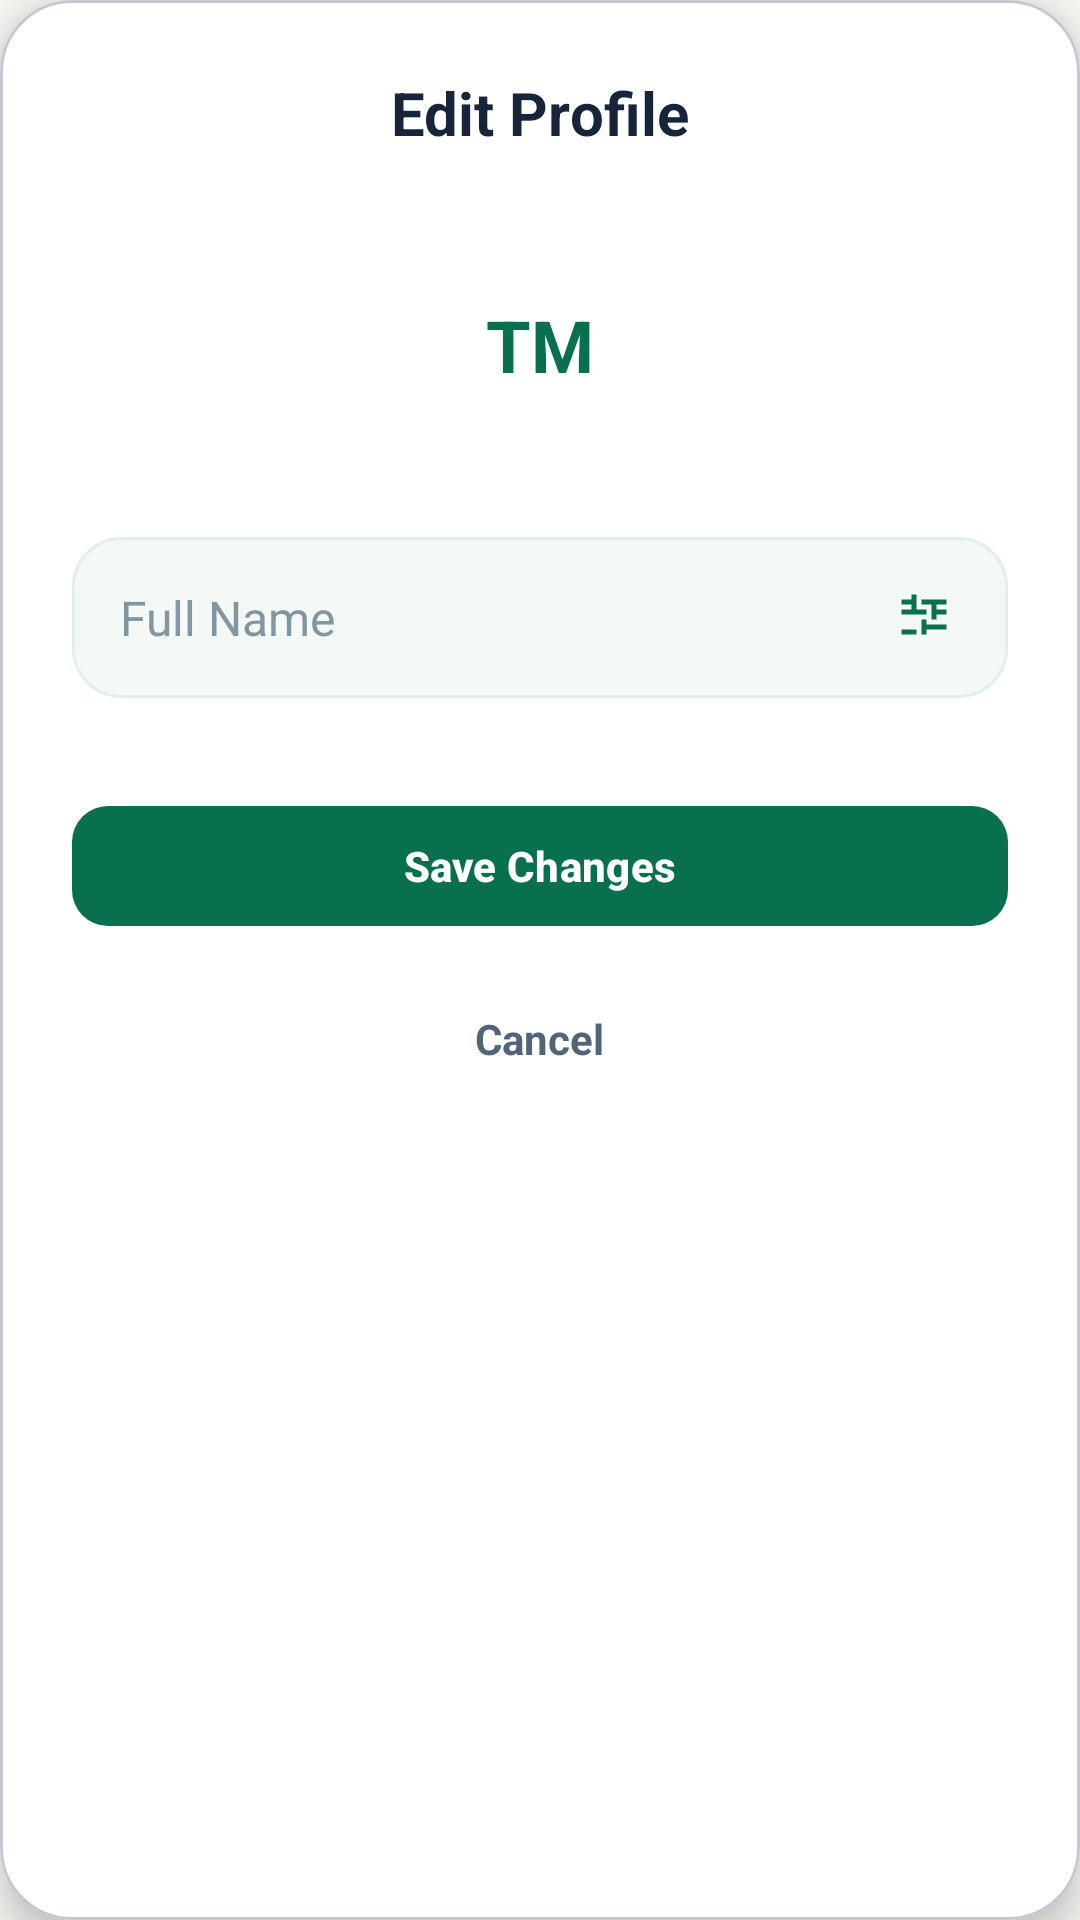

Screen size 1080 x 1920. Icon name, then its center in pixels as [x,y]:
tune: [924,614]
